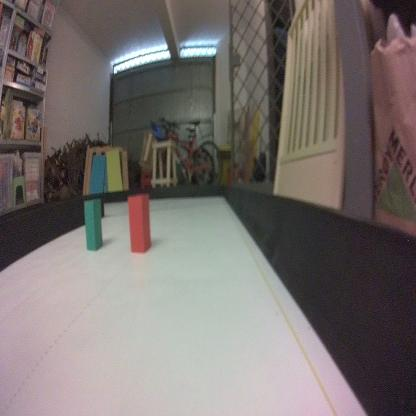green: (83, 195, 104, 252)
red: (126, 194, 152, 253)
